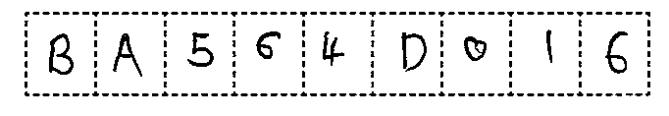0: (460, 29, 493, 65)
1: (535, 25, 562, 69)
4: (317, 26, 349, 73)
5: (182, 26, 222, 76)
6: (600, 28, 633, 80), (249, 26, 287, 68)
A: (112, 30, 146, 80)
B: (41, 27, 80, 83)
D: (395, 25, 432, 79)
